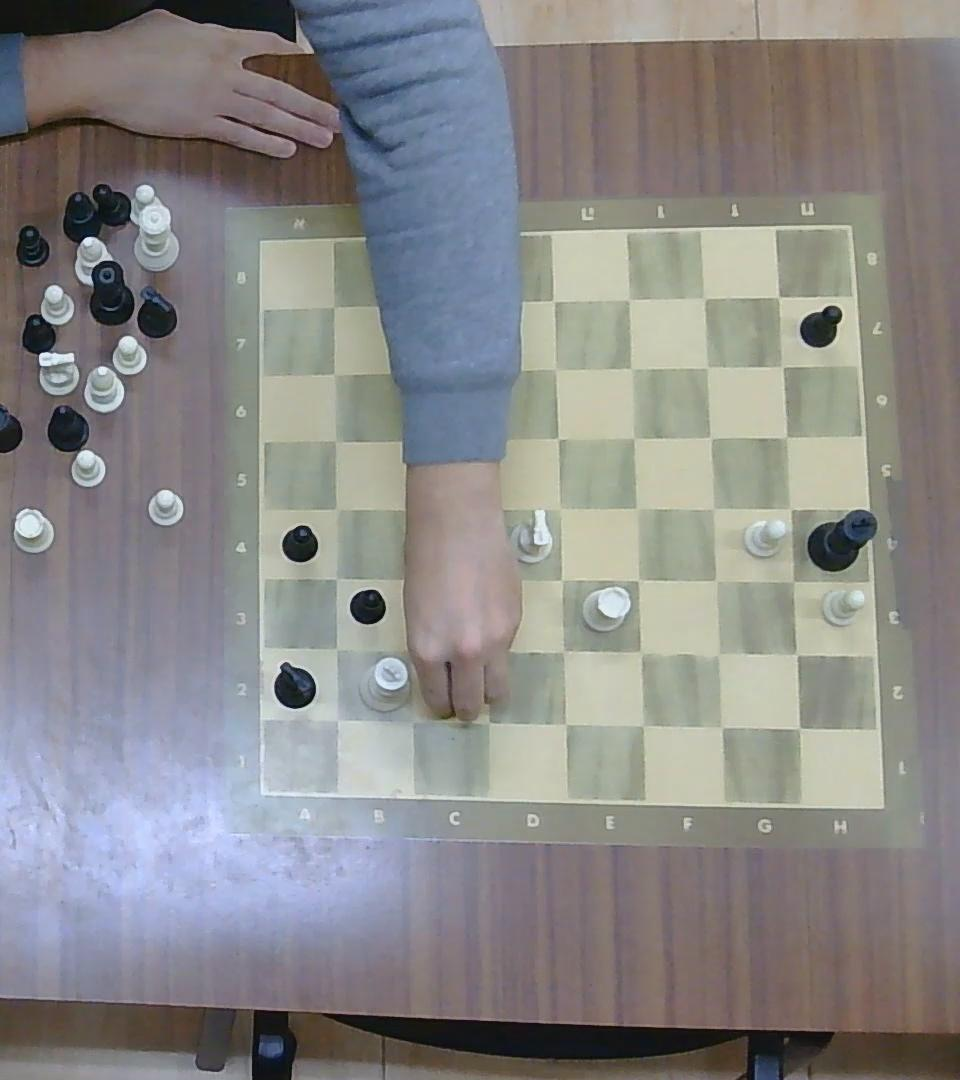xcorner: (781, 710, 815, 744), (384, 288, 418, 322), (702, 637, 734, 671), (705, 708, 736, 742), (776, 564, 808, 596), (626, 707, 657, 740), (548, 706, 579, 738), (625, 635, 656, 667), (622, 564, 653, 596), (781, 638, 812, 670), (466, 288, 496, 321), (321, 703, 352, 734), (470, 634, 501, 665), (548, 635, 578, 667), (538, 284, 568, 316), (471, 422, 501, 454), (698, 492, 728, 523), (472, 706, 502, 737), (700, 563, 730, 594), (776, 492, 806, 523), (474, 494, 504, 524), (393, 425, 423, 455), (548, 563, 577, 594), (615, 283, 644, 313), (397, 705, 426, 735), (617, 351, 646, 381), (321, 563, 350, 593), (475, 565, 504, 595), (691, 282, 720, 311), (321, 635, 350, 664), (622, 493, 651, 522), (693, 351, 722, 380), (541, 353, 570, 382), (767, 351, 796, 380), (393, 637, 423, 665), (470, 354, 498, 384), (620, 422, 648, 451), (398, 565, 425, 595), (323, 495, 351, 523), (320, 291, 348, 319), (698, 422, 725, 451), (771, 423, 800, 450), (765, 283, 794, 310), (545, 423, 573, 450), (321, 359, 349, 386), (393, 494, 421, 521), (547, 494, 573, 521), (391, 358, 417, 384), (323, 426, 348, 453)
